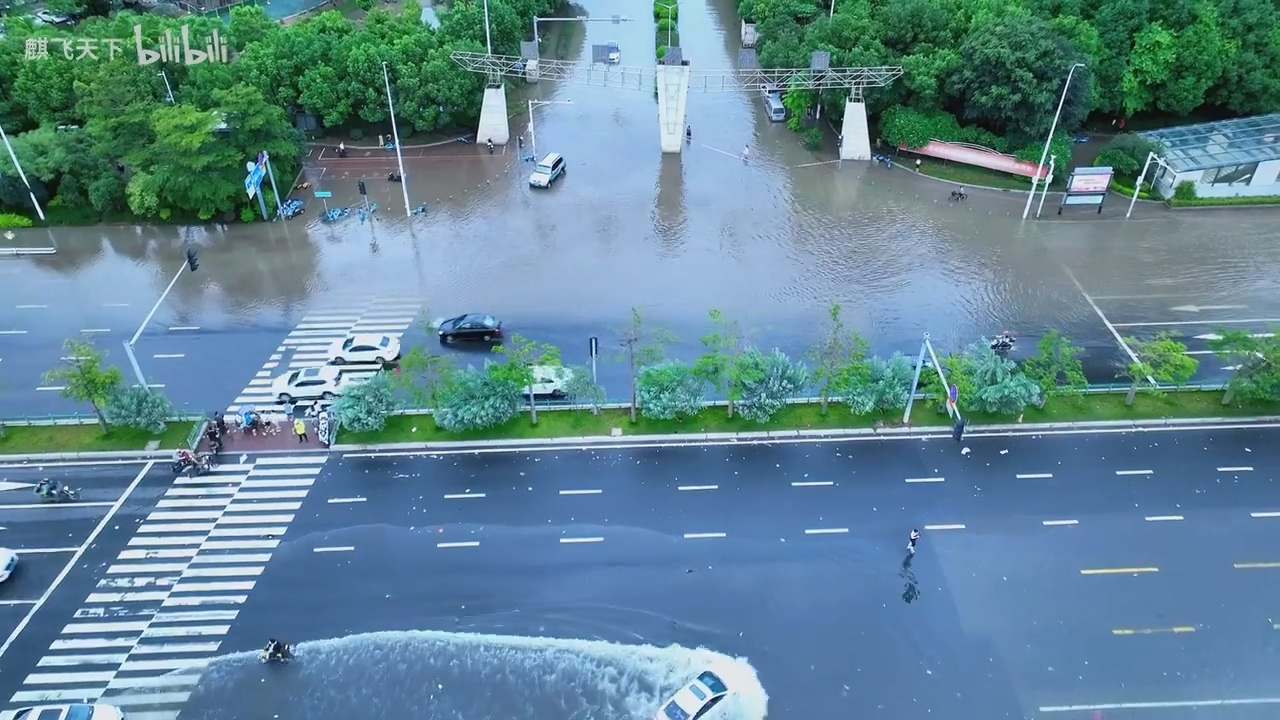puddle: (13, 204, 1258, 333)
